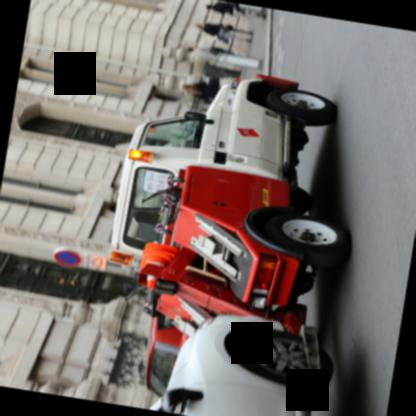handbag: (225, 24, 233, 29)
